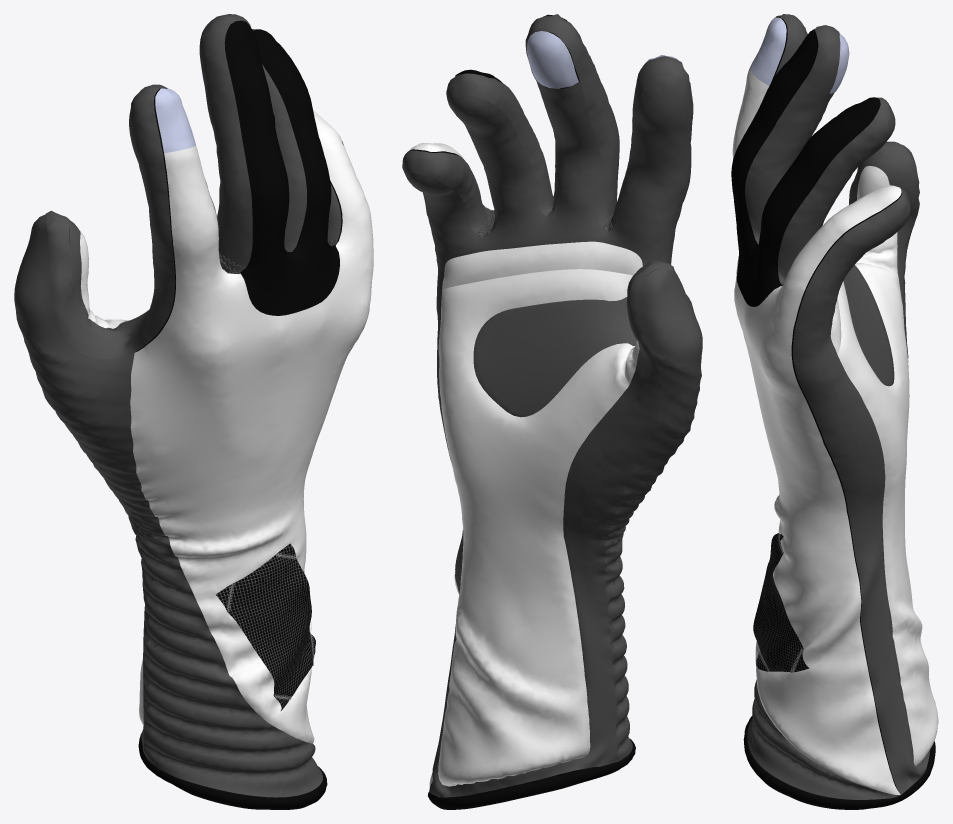
The model's file is BGE03_BRAVO.fbx.
3 views of the same model, side by side, from view 1: azimuth 30°, elevation 25°; view 2: azimuth 150°, elevation 25°; view 3: azimuth 270°, elevation 25° (orthographic). The views are drawn at different scales.
Parts seen in each view (by area): view 1: COVER_COVER-TPU.006, THUMB_9, FINGERMID_FINGERMID.002, LINK002_3, LINK001_2, LABEL.000_LABEL.003, BINDING_8, INTERNAL_5, TIPOVER_1, LINING_11, PALM002; view 2: PALM002, INTERNAL_5, LINK001_2, THUMB_9, LINK002_3, PALM001, LINK004_4, BINDING_8, TIPUNDER; view 3: COVER_COVER-TPU.006, PALM002, LINK004_4, INTERNAL_5, FINGERMID_FINGERMID.002, LINK002_3, THUMB_9, LABEL.000_LABEL.003, LINK001_2, BINDING_8, LINING_11, TIPOVER_1 (+2 smaller).
Boxes of the visible parts, left/top/right/bottom form: COVER_COVER-TPU.006: left=130, top=110, right=373, bottom=743; THUMB_9: left=14, top=214, right=322, bottom=797; FINGERMID_FINGERMID.002: left=226, top=20, right=339, bottom=315; LINK002_3: left=199, top=14, right=334, bottom=272; LINK001_2: left=45, top=84, right=239, bottom=755; LABEL.000_LABEL.003: left=216, top=543, right=315, bottom=710; BINDING_8: left=138, top=733, right=327, bottom=809; INTERNAL_5: left=69, top=94, right=156, bottom=745; TIPOVER_1: left=155, top=88, right=195, bottom=153; LINING_11: left=135, top=20, right=342, bottom=352; PALM002: left=80, top=231, right=143, bottom=725; PALM002: left=438, top=269, right=639, bottom=786; INTERNAL_5: left=404, top=72, right=689, bottom=797; LINK001_2: left=580, top=56, right=693, bottom=766; THUMB_9: left=604, top=268, right=702, bottom=762; LINK002_3: left=446, top=14, right=619, bottom=237; PALM001: left=442, top=241, right=642, bottom=290; LINK004_4: left=402, top=150, right=492, bottom=795; BINDING_8: left=428, top=739, right=635, bottom=809; TIPUNDER: left=527, top=31, right=578, bottom=88; COVER_COVER-TPU.006: left=732, top=67, right=901, bottom=794; PALM002: left=837, top=166, right=938, bottom=766; LINK004_4: left=782, top=189, right=912, bottom=794; INTERNAL_5: left=795, top=23, right=929, bottom=784; FINGERMID_FINGERMID.002: left=731, top=30, right=879, bottom=306; LINK002_3: left=745, top=25, right=893, bottom=285; THUMB_9: left=747, top=144, right=916, bottom=799; LABEL.000_LABEL.003: left=753, top=533, right=809, bottom=672; LINK001_2: left=775, top=14, right=919, bottom=318; BINDING_8: left=743, top=715, right=935, bottom=809; LINING_11: left=743, top=17, right=901, bottom=792; TIPOVER_1: left=750, top=17, right=786, bottom=85.
Size of the model in its own units: 101 by 245 by 61.96.
Materials: 15 (1 with a texture image).
